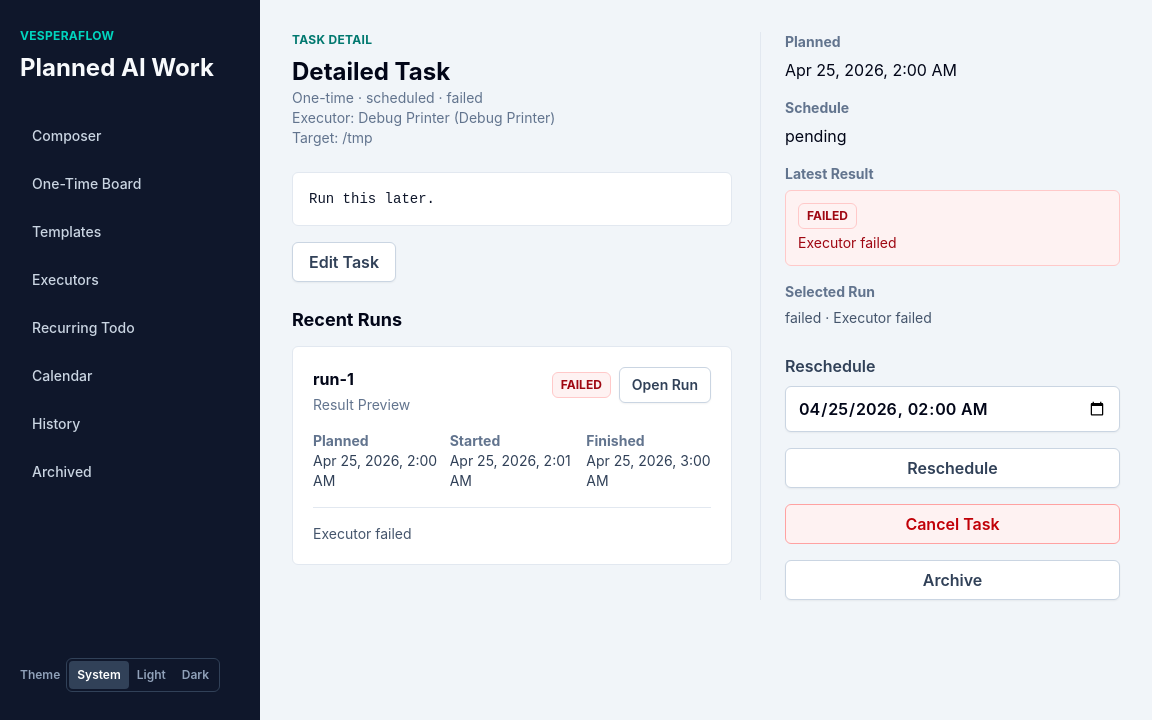
Test case: App › edits a one-time task from task detail
Step 1. Click the button "Edit Task" → (344, 262), box top-left (292, 242), bottom-right (396, 282)
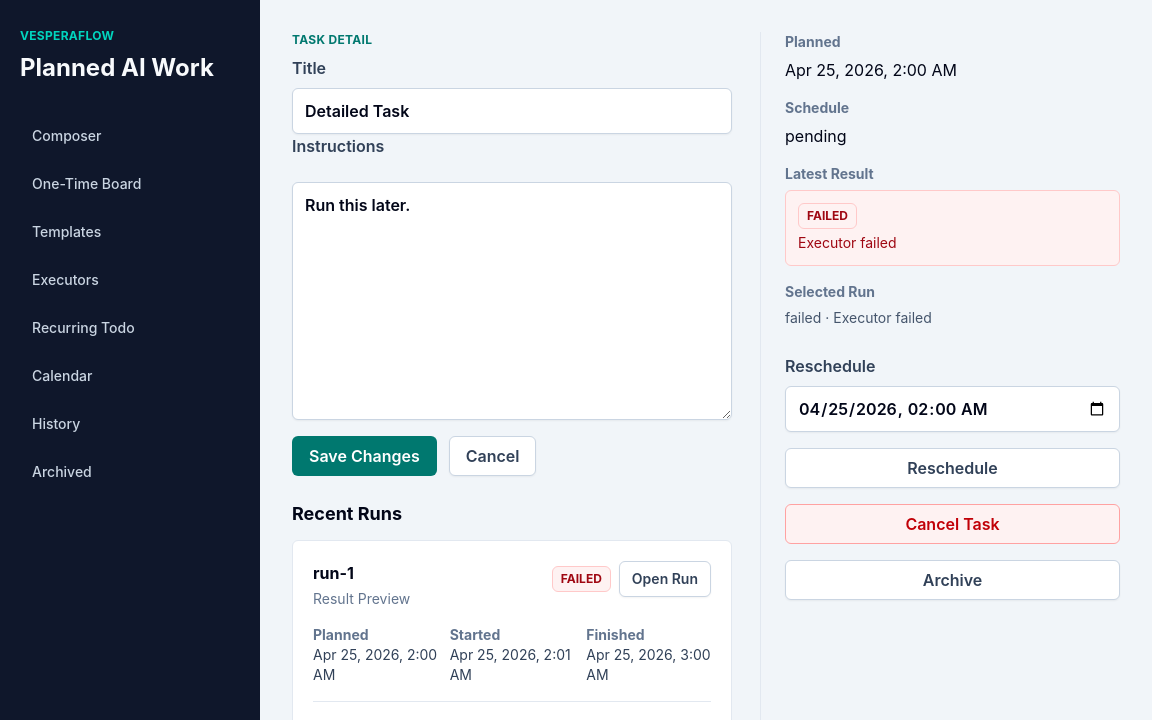
Step 2. Replace the text in the field labelled "Title" with "Updated One-Time Task" → (512, 111), box top-left (292, 88), bottom-right (732, 134)
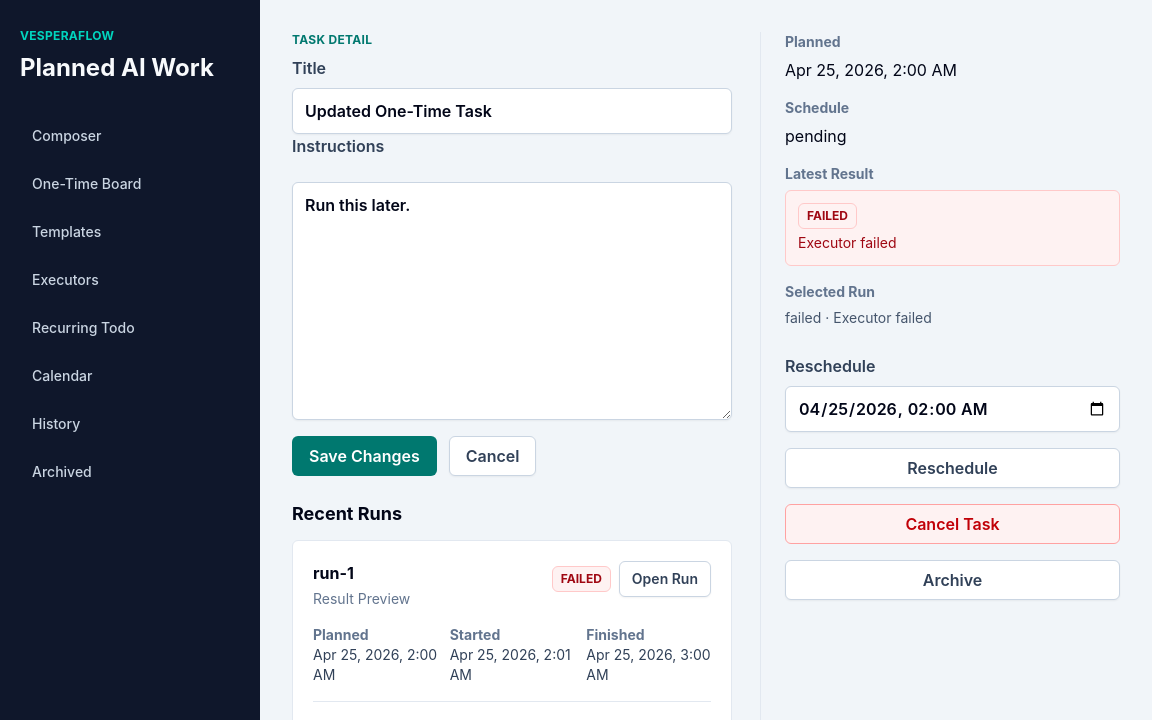
Step 3. Replace the text in the text box labelled "Instructions" with "Updated instructions." → (512, 301), box top-left (292, 182), bottom-right (732, 420)
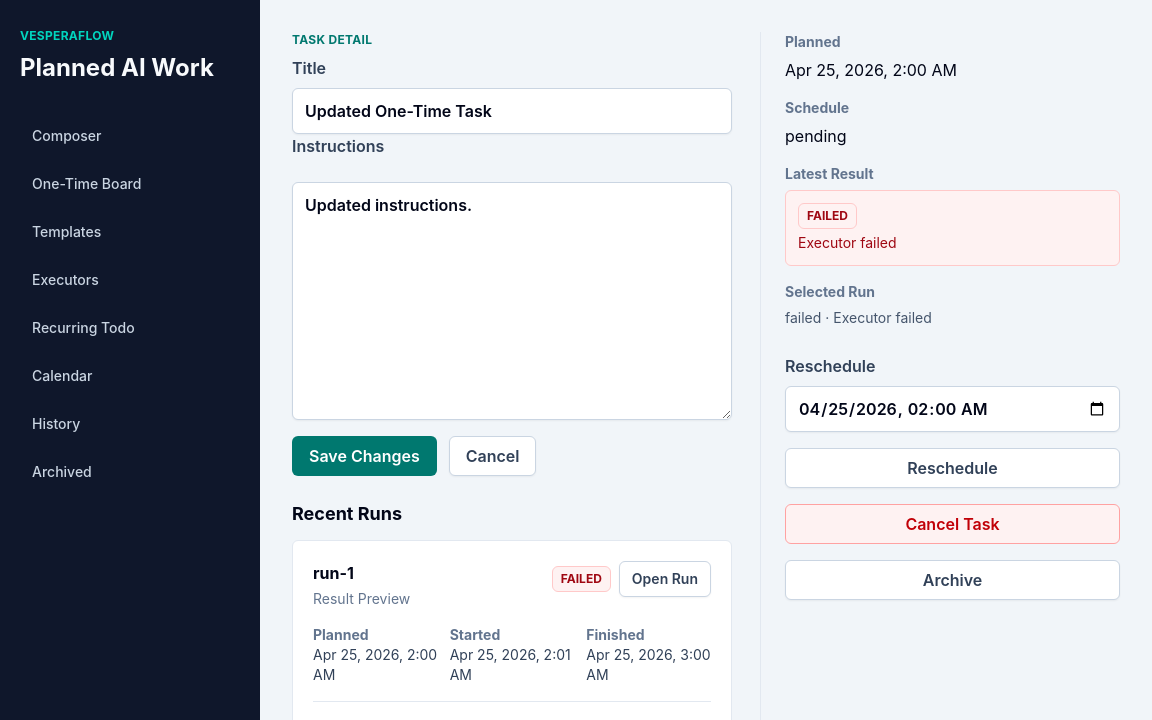
Step 4. Click the button "Save Changes" → (364, 456), box top-left (292, 436), bottom-right (437, 476)
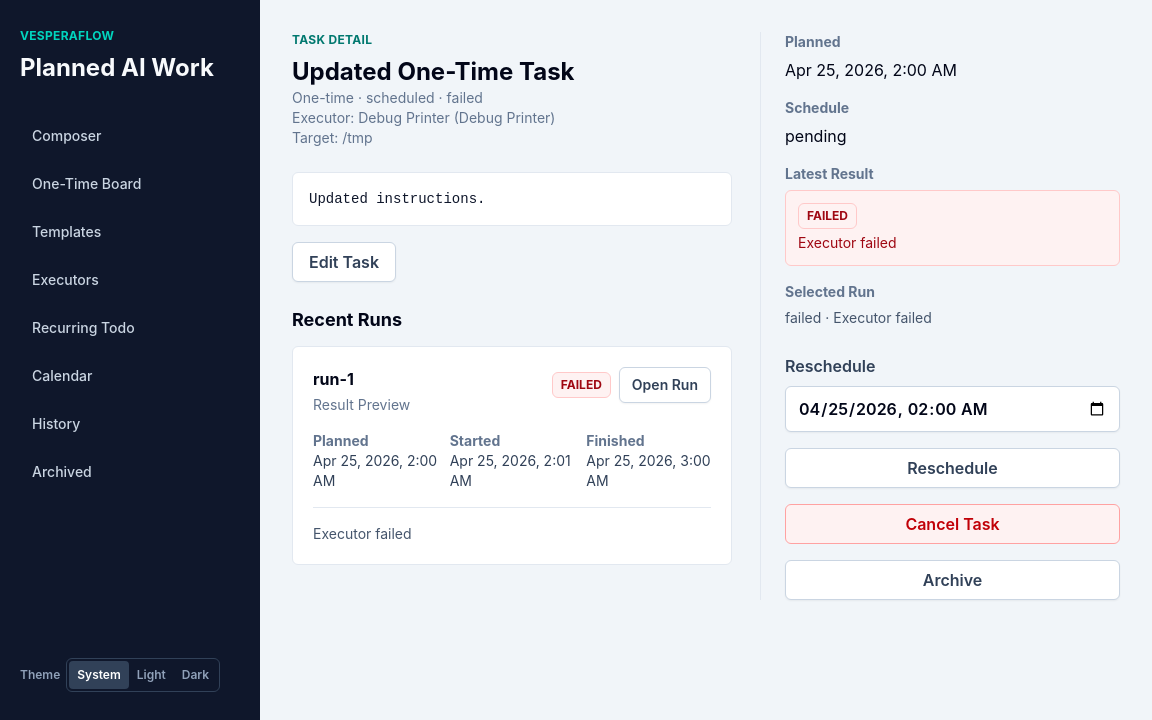
Result: the text "Updated One-Time Task" is shown at top-left (292, 57), bottom-right (574, 86)
